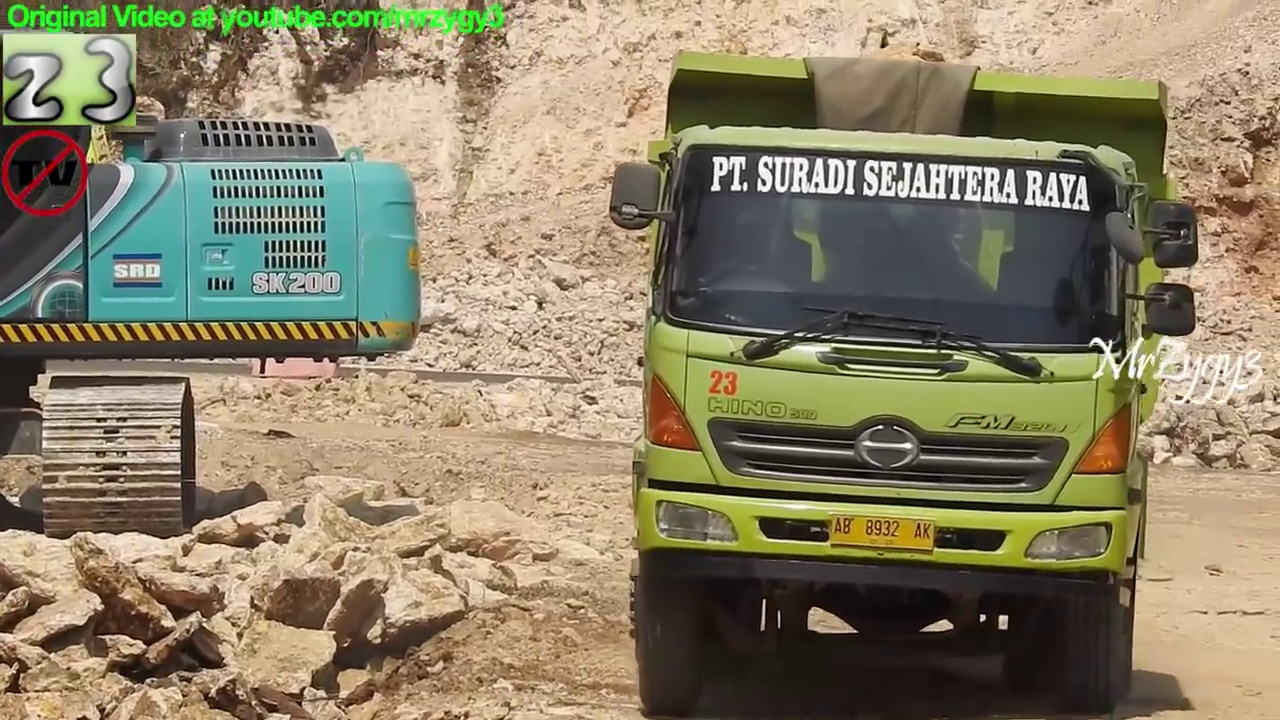excavator: (1, 1, 433, 545)
truck: (607, 45, 1208, 720)
